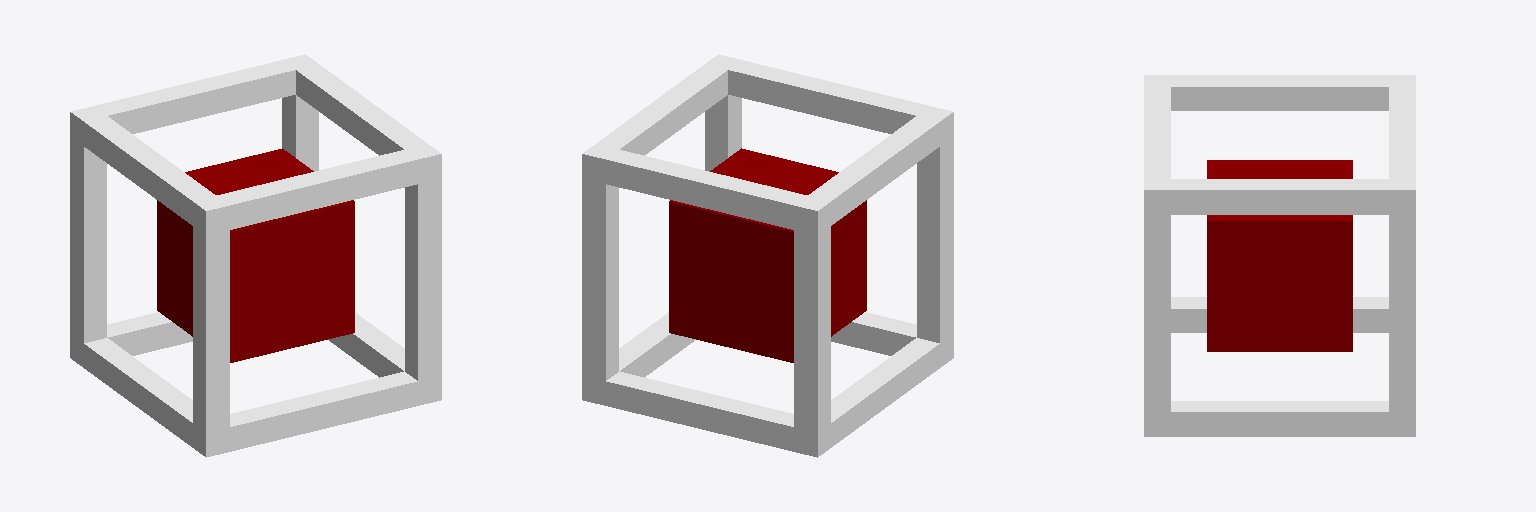
3 views of the same model, side by side, from view 1: azimuth 30°, elevation 25°; view 2: azimuth 150°, elevation 25°; view 3: azimuth 270°, elevation 25° (orthographic).
Parts seen in each view (by area): view 1: object 1; view 2: object 1; view 3: object 1.
Boxes of the visible parts, x1,y1,x2,y2 form: object 1: [70, 54, 441, 457]; object 1: [582, 54, 953, 457]; object 1: [1144, 75, 1415, 436].
Bounding box in the file's own units: 3 × 3 × 3.
Materials: 1 (1 with a texture image).